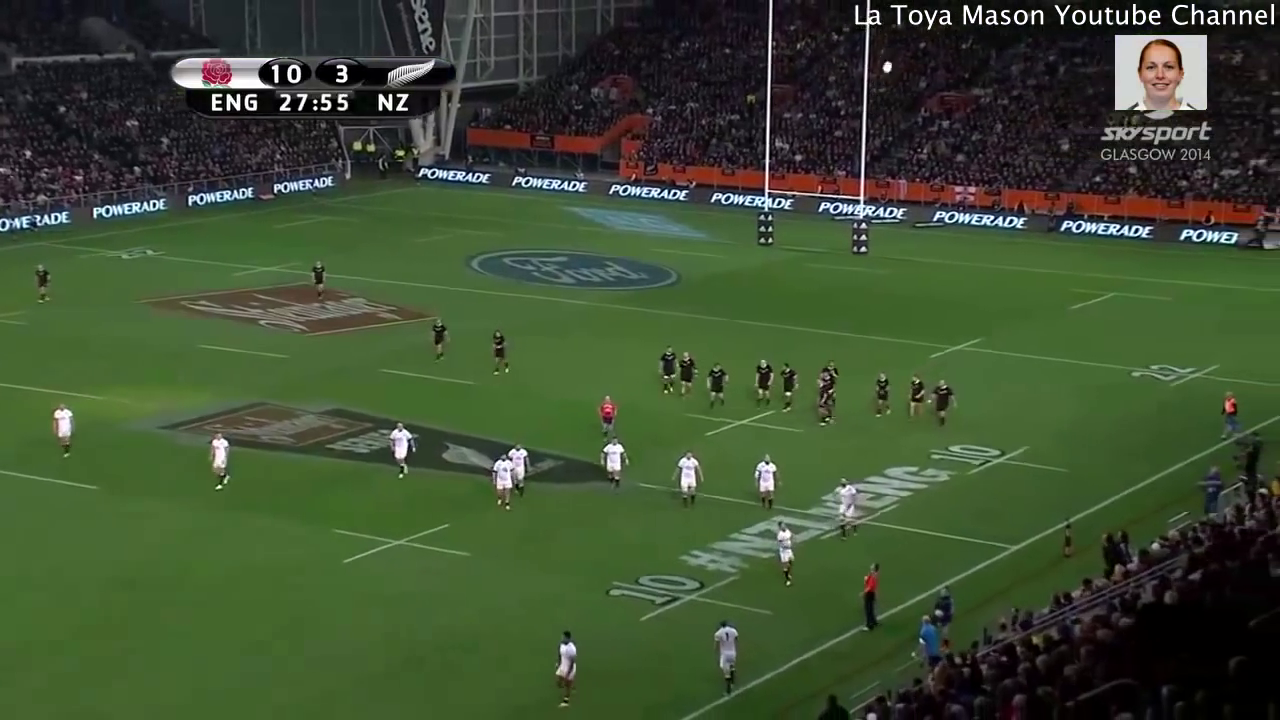10_metre: (599, 565, 781, 631), (921, 435, 1077, 484), (326, 520, 477, 570), (681, 404, 809, 441)
player: (549, 622, 585, 716), (708, 615, 743, 706), (383, 414, 425, 486), (665, 448, 705, 511), (923, 376, 961, 442), (201, 426, 236, 496), (831, 466, 863, 541), (593, 433, 629, 498), (772, 516, 802, 589), (747, 449, 779, 517), (49, 396, 80, 464), (698, 358, 729, 415), (775, 358, 804, 418), (487, 448, 514, 510), (485, 324, 513, 383), (652, 339, 679, 399), (673, 348, 699, 409), (593, 389, 621, 445), (507, 440, 531, 505), (751, 354, 777, 414), (427, 312, 453, 366), (905, 369, 929, 427), (29, 258, 55, 309), (871, 367, 895, 420), (813, 376, 835, 433), (308, 257, 329, 304), (820, 367, 841, 402), (818, 357, 839, 365)
post: (749, 1, 885, 265)
